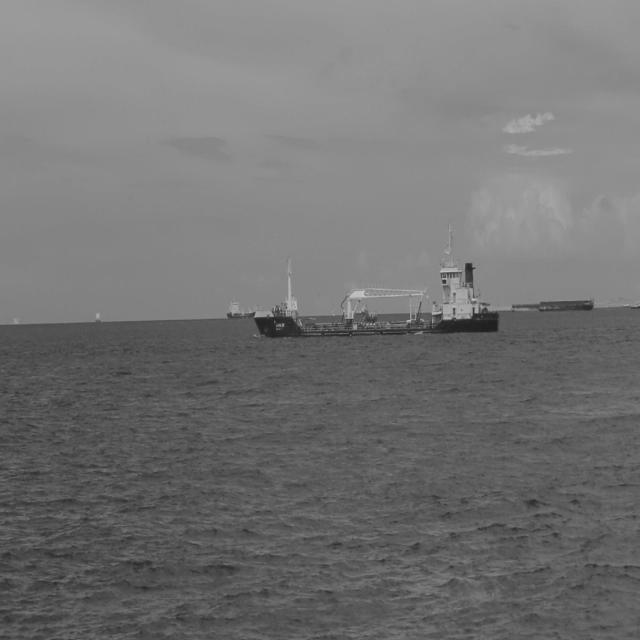ship: (253, 210, 503, 344), (223, 288, 262, 325), (536, 296, 594, 314)
